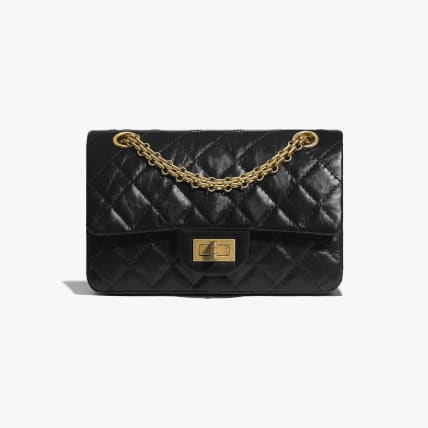channel: (64, 105, 382, 313), (269, 161, 338, 297), (121, 135, 233, 189), (169, 227, 255, 270)
